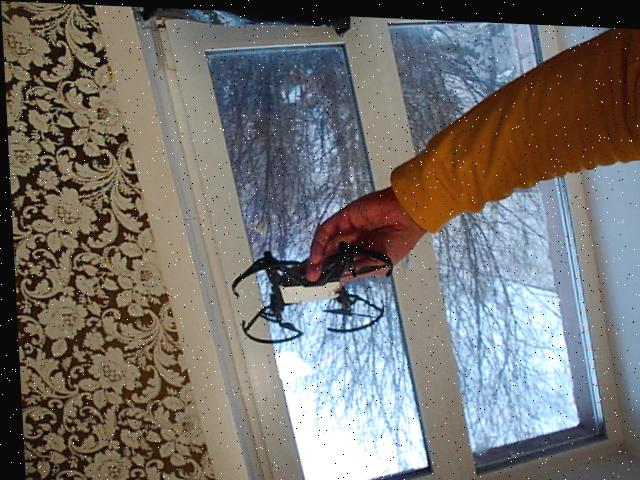drone: (220, 226, 395, 349)
